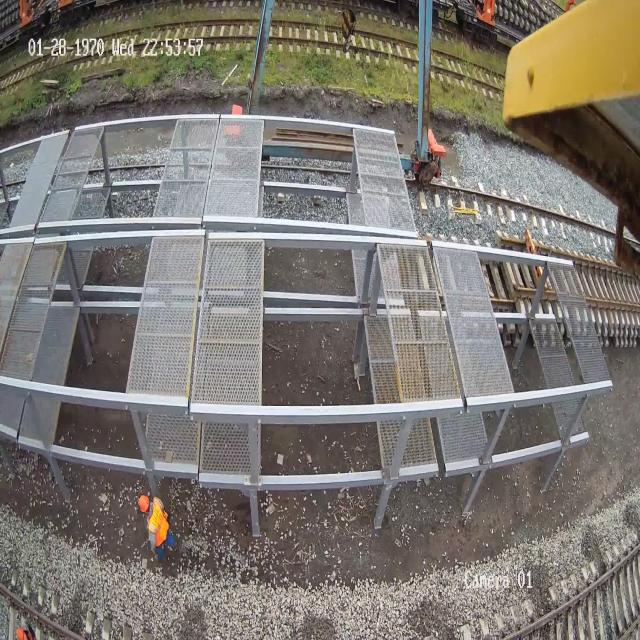Helmet: (138, 494, 149, 513)
Person: (138, 493, 170, 561)
